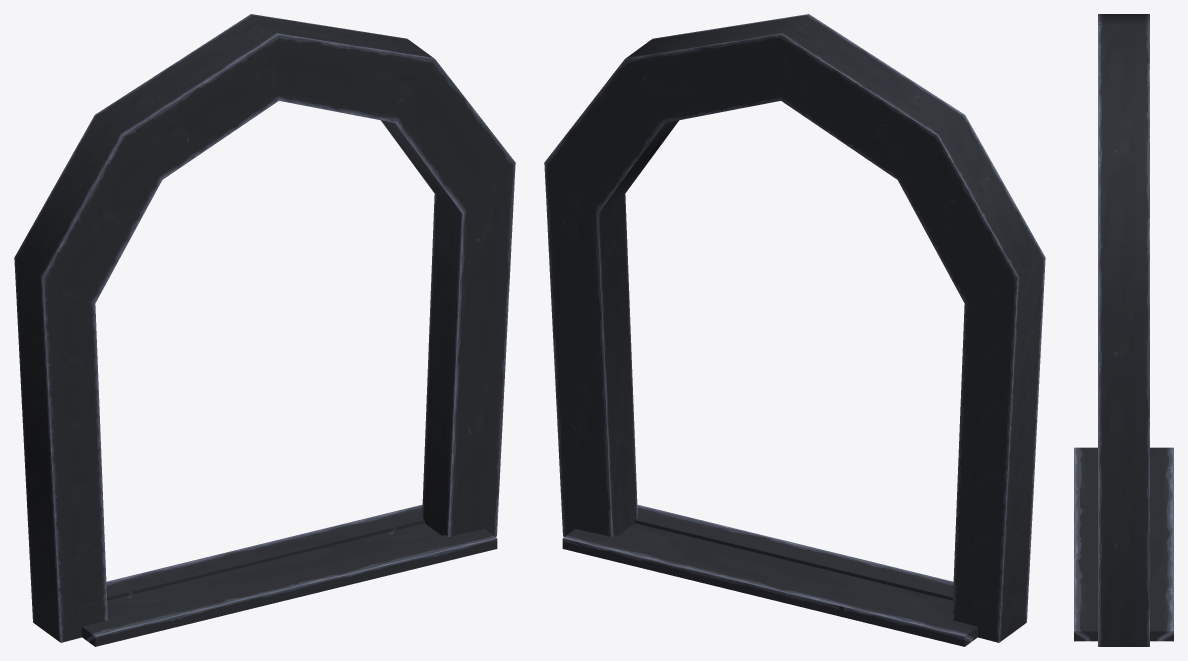
The model's file is MOD_Gateway_Door_01_med_01.fbx.
The picture shows the model from 3 angles, left to right: view 1: azimuth 30°, elevation 25°; view 2: azimuth 150°, elevation 25°; view 3: azimuth 270°, elevation 25°; orthographic projection. The views are drawn at different scales.
Visible parts, largest first — view 1: MOD_Gateway_Door_01_med_01; view 2: MOD_Gateway_Door_01_med_01; view 3: MOD_Gateway_Door_01_med_01.
Boxes of the visible parts, <box> form: MOD_Gateway_Door_01_med_01: <box>14,14,515,646</box>; MOD_Gateway_Door_01_med_01: <box>544,14,1045,646</box>; MOD_Gateway_Door_01_med_01: <box>1074,14,1173,646</box>.
Size of what is drawn, in the model's own units: 353 by 396 by 68.79.
